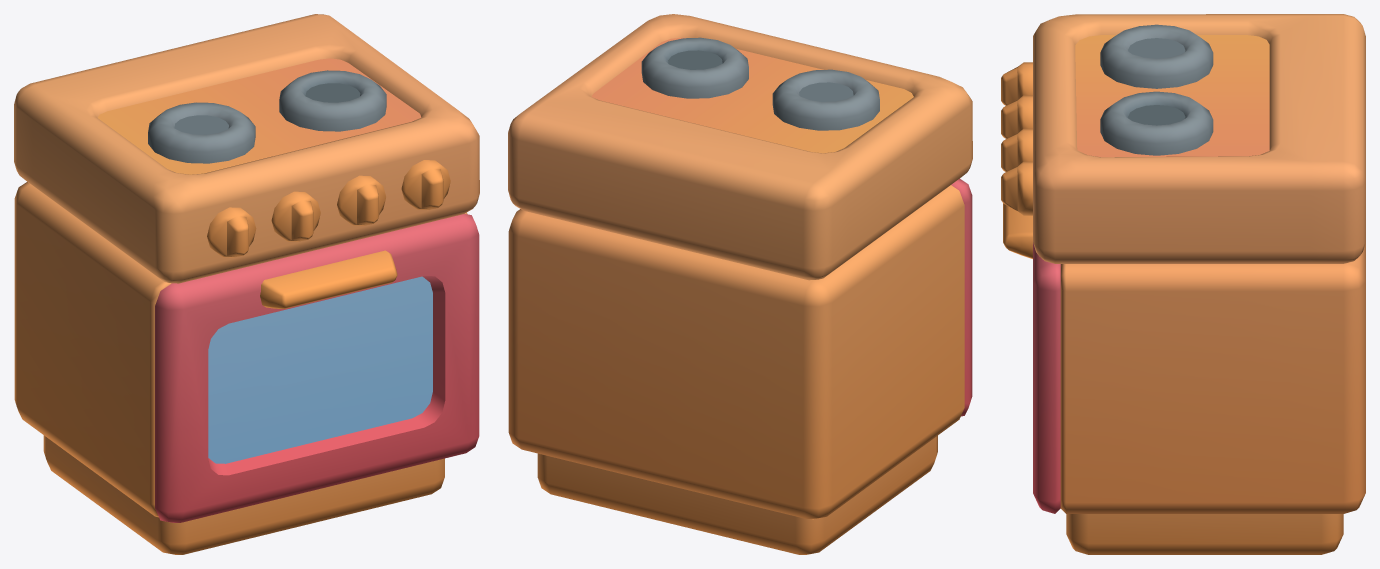
Rendered from Kitchen_stove_001.glb.
3 renders of one model, left to right at view 1: azimuth 30°, elevation 25°; view 2: azimuth 150°, elevation 25°; view 3: azimuth 270°, elevation 25°, orthographic. The views are drawn at different scales.
Parts seen in each view (by area): view 1: Kitchen_stove_001, Kitchen_stove_door_001; view 2: Kitchen_stove_001, Kitchen_stove_door_001; view 3: Kitchen_stove_001, Kitchen_stove_door_001.
Boxes of the visible parts, <box> form: Kitchen_stove_001: <box>14,14,479,554</box>; Kitchen_stove_door_001: <box>155,214,479,522</box>; Kitchen_stove_001: <box>508,14,972,554</box>; Kitchen_stove_door_001: <box>951,178,972,416</box>; Kitchen_stove_001: <box>1001,14,1365,554</box>; Kitchen_stove_door_001: <box>1003,203,1060,513</box>.
Bounding box in the file's own units: 0.744 × 0.8736 × 0.6987.
Materials: 1 (1 with a texture image).
